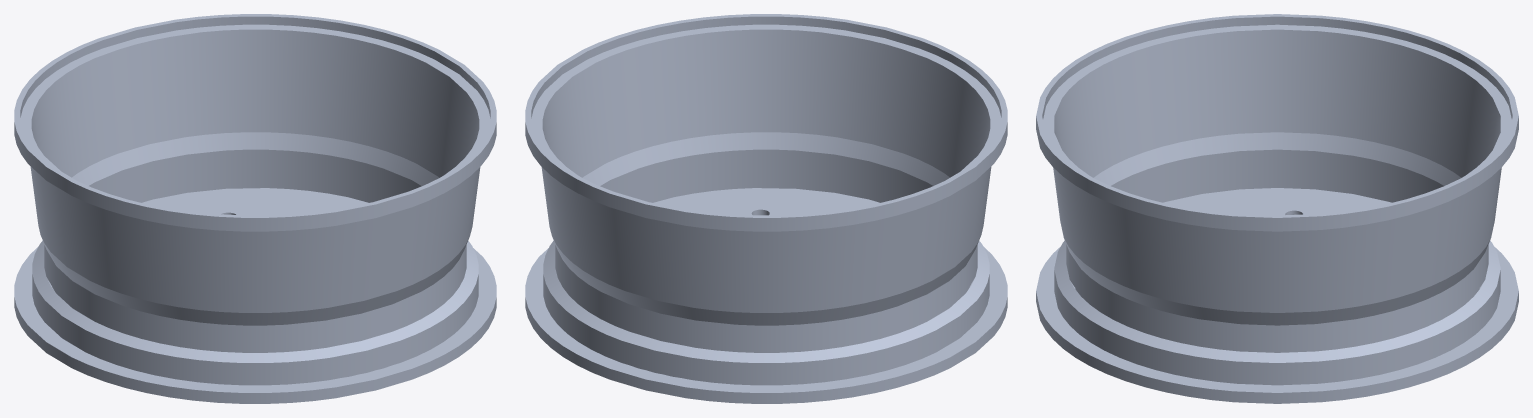
The model's file is Rohling-alt.dae.
3 renders of one model, left to right at view 1: azimuth 30°, elevation 25°; view 2: azimuth 150°, elevation 25°; view 3: azimuth 270°, elevation 25°, orthographic.
Parts seen in each view (by area): view 1: ASTA2962508-DC_Brep; view 2: ASTA2962508-DC_Brep; view 3: ASTA2962508-DC_Brep.
Boxes of the visible parts, x1=… form: ASTA2962508-DC_Brep: x1=14, y1=14, x2=496, y2=403; ASTA2962508-DC_Brep: x1=525, y1=14, x2=1007, y2=403; ASTA2962508-DC_Brep: x1=1036, y1=14, x2=1518, y2=403.
Bounding box in the file's own units: 20 × 20 × 8.5.
